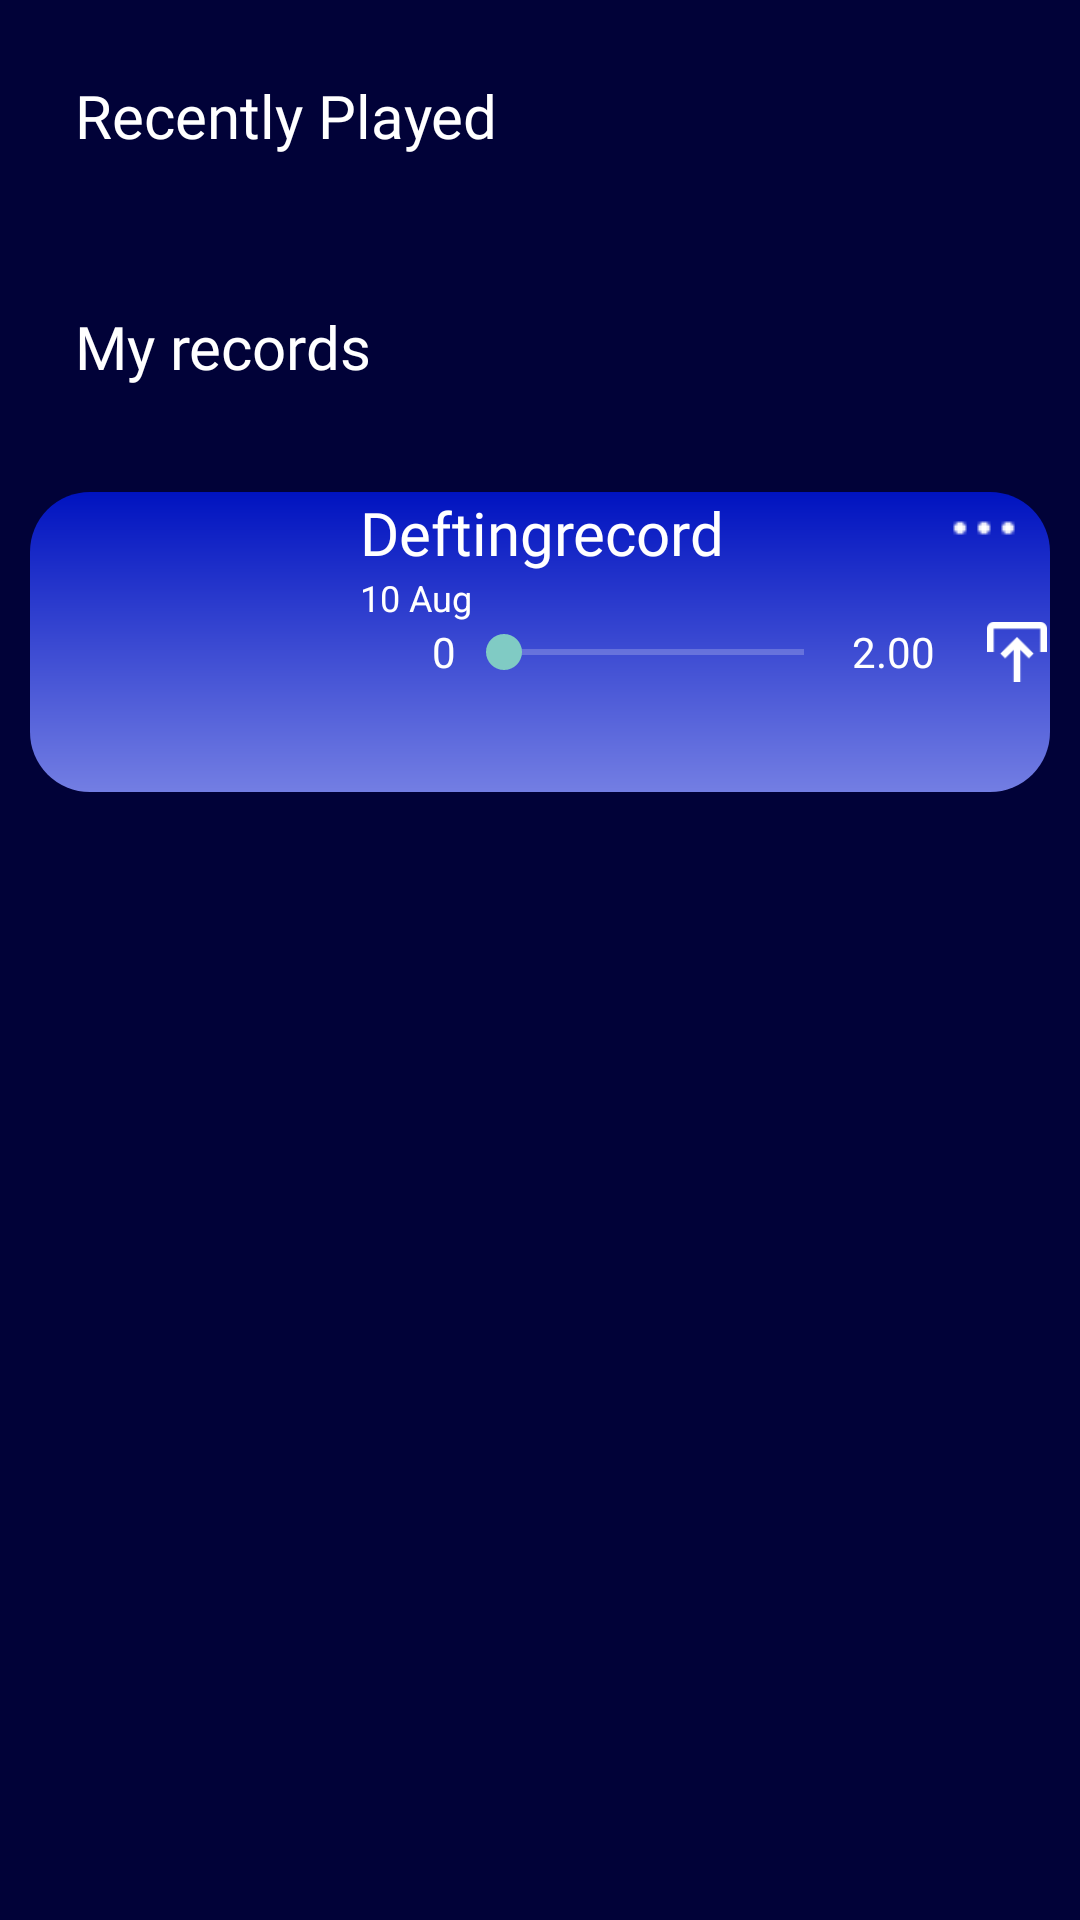

Where to tap for icons on this 1080px x 1920px app screen, as point (x, y):
option: point (984, 518)
share: point (1017, 652)
